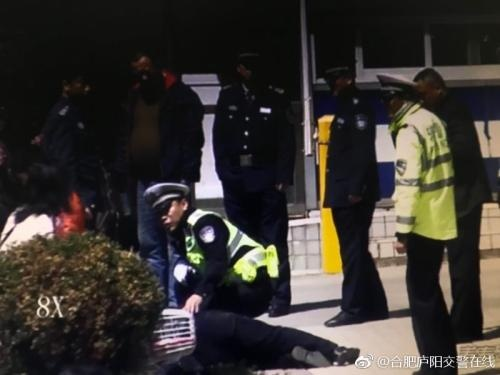falling: (119, 282, 369, 375)
